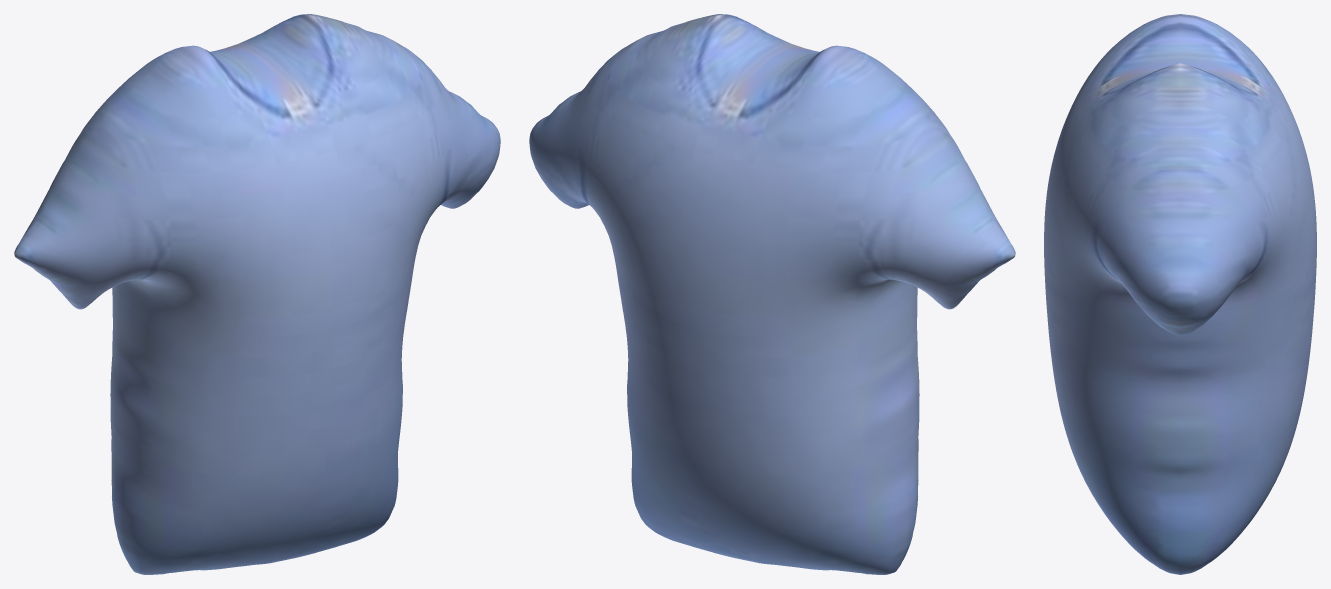
File: cloth@25=cloth_front.glb
3 renders of one model, left to right at view 1: azimuth 30°, elevation 25°; view 2: azimuth 150°, elevation 25°; view 3: azimuth 270°, elevation 25°, orthographic. The views are drawn at different scales.
Size of the model in its own units: 7.1 by 7.42 by 3.76.
1 material, 1 textured.
